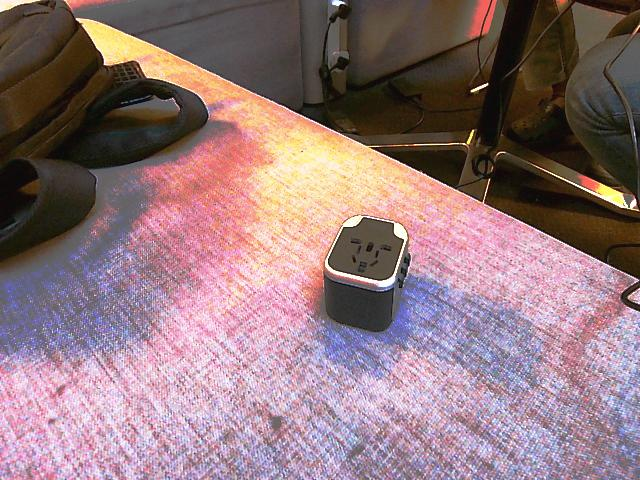adapter: (322, 212, 411, 332)
